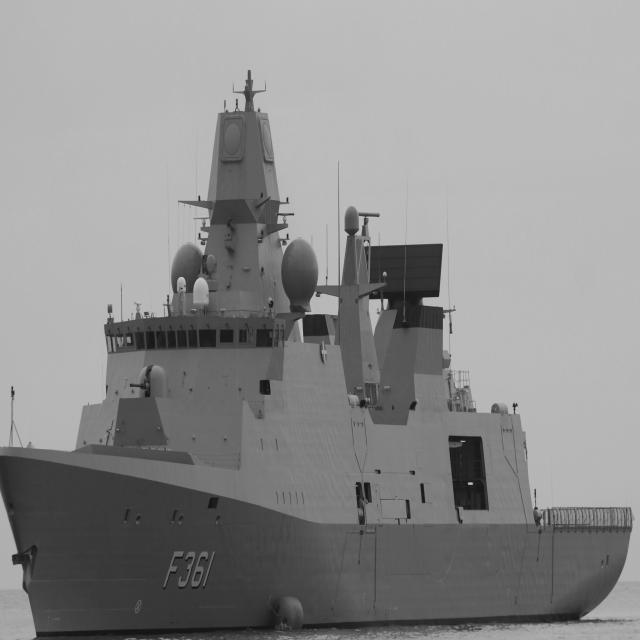Fragata: (1, 64, 637, 640)
